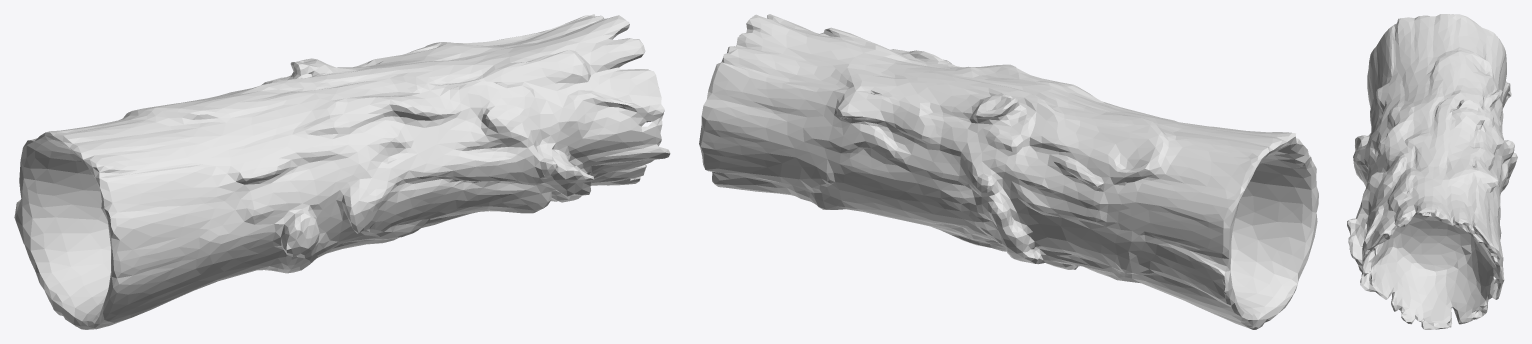
Rendered from log_rotten_r1.glb.
The picture shows the model from 3 angles, left to right: view 1: azimuth 30°, elevation 25°; view 2: azimuth 150°, elevation 25°; view 3: azimuth 270°, elevation 25°; orthographic projection. The views are drawn at different scales.
Visible parts, largest first — view 1: Low; view 2: Low; view 3: Low.
Part boxes in pixels (<box>): Low: <box>14,14,670,329</box>; Low: <box>699,14,1318,329</box>; Low: <box>1347,14,1517,329</box>.
Size of the model in its own units: 1.99 by 0.6313 by 0.7319.
Materials: 1 (1 with a texture image).
